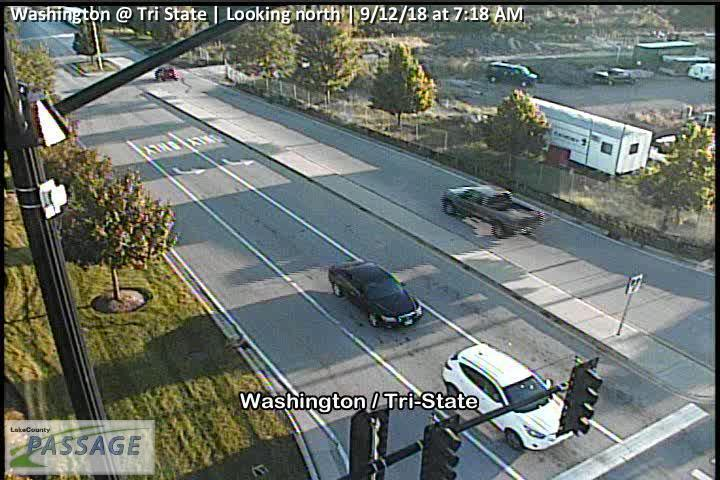SUV: (440, 341, 580, 453), (487, 61, 539, 89), (592, 67, 637, 88), (685, 61, 714, 82)
Sedan: (327, 259, 425, 331), (152, 67, 183, 81)
Truck: (441, 182, 547, 241)
